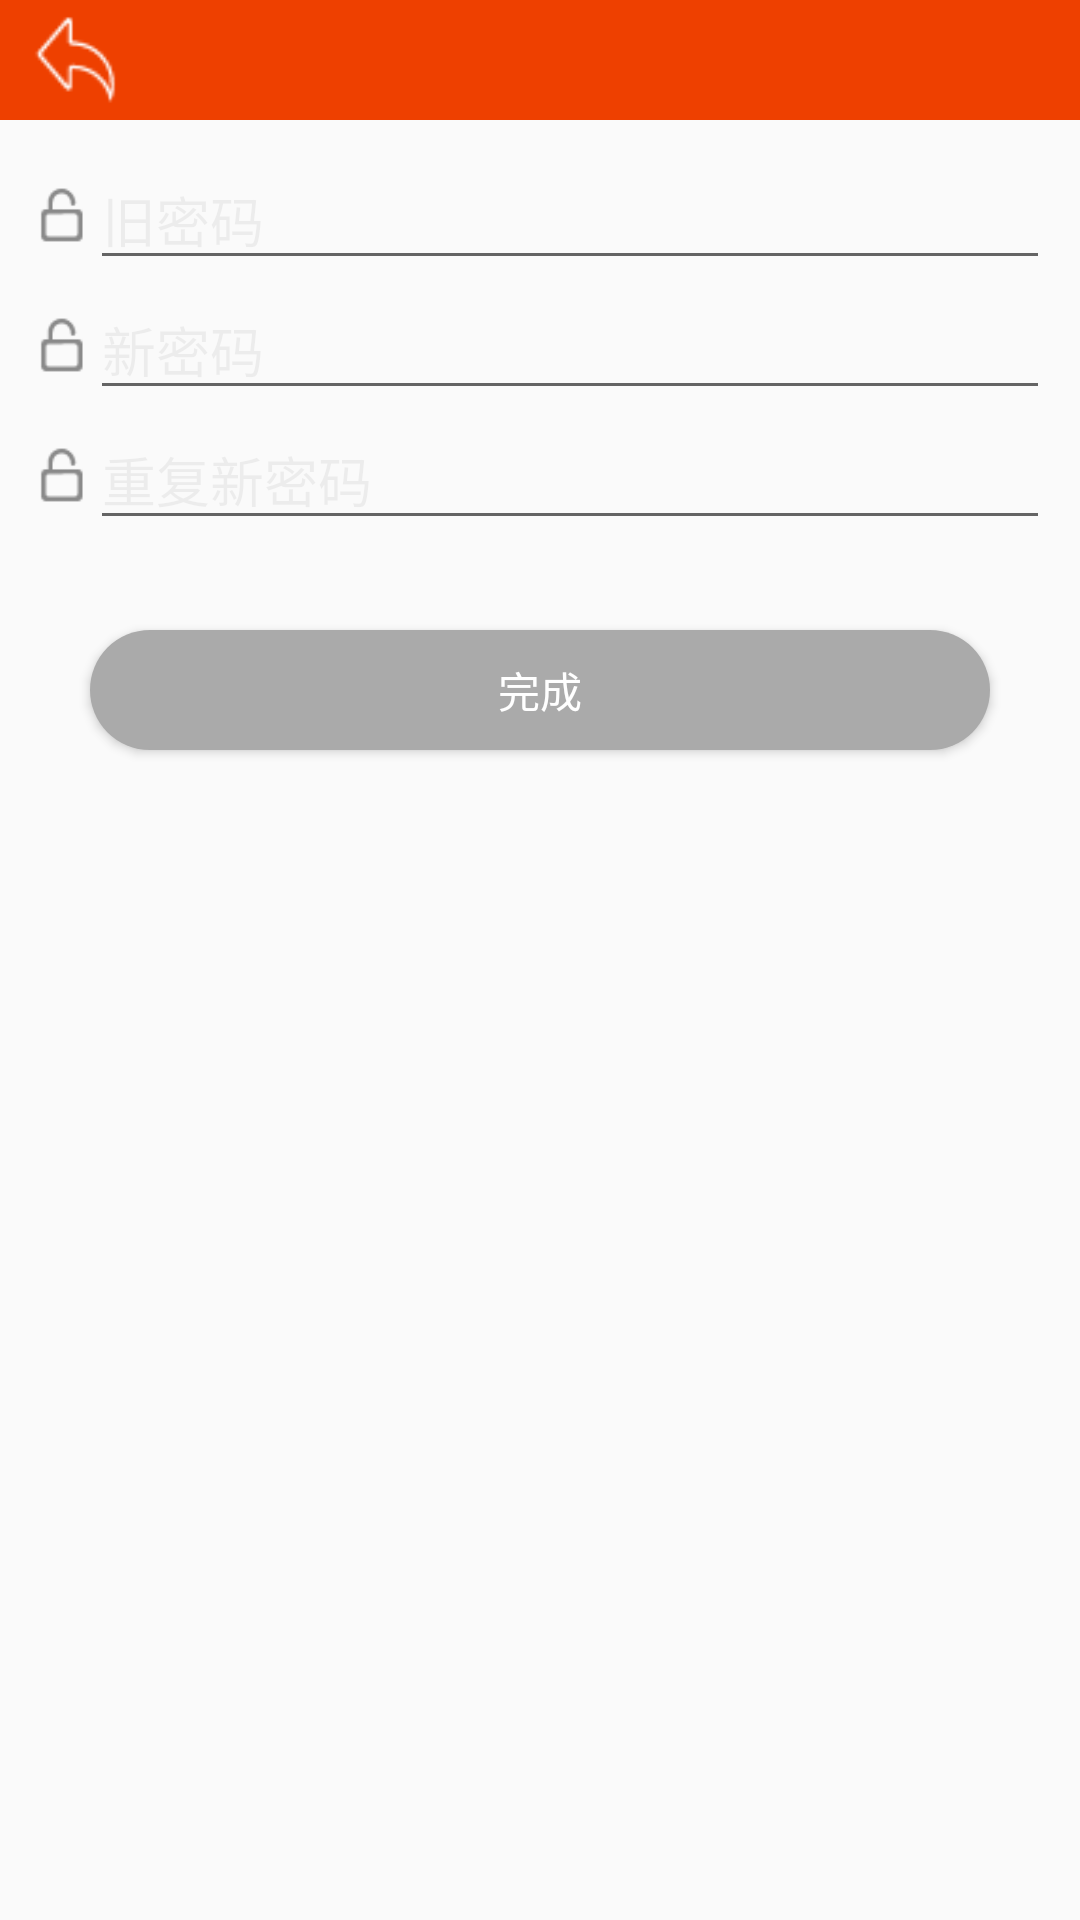

Point at icon controls on the screen. Image size 1080×1920, points as [x,y].
back: [75,59]
pass: [62,215], [62,345], [62,475]
